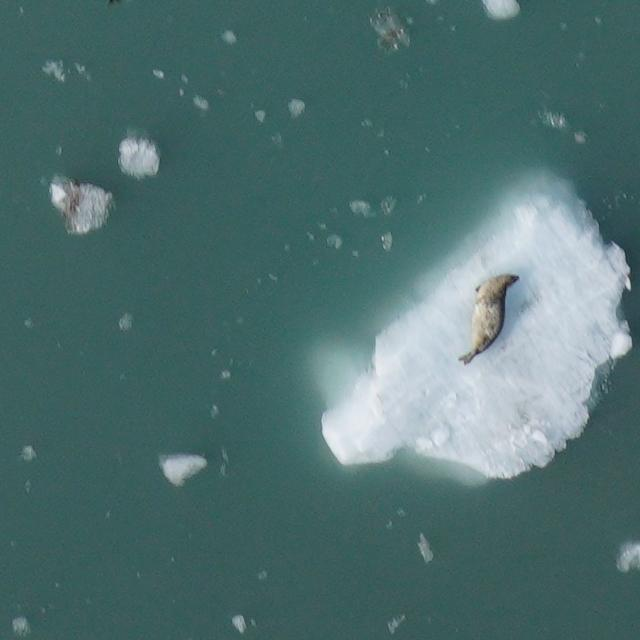seal: (452, 272, 525, 369)
